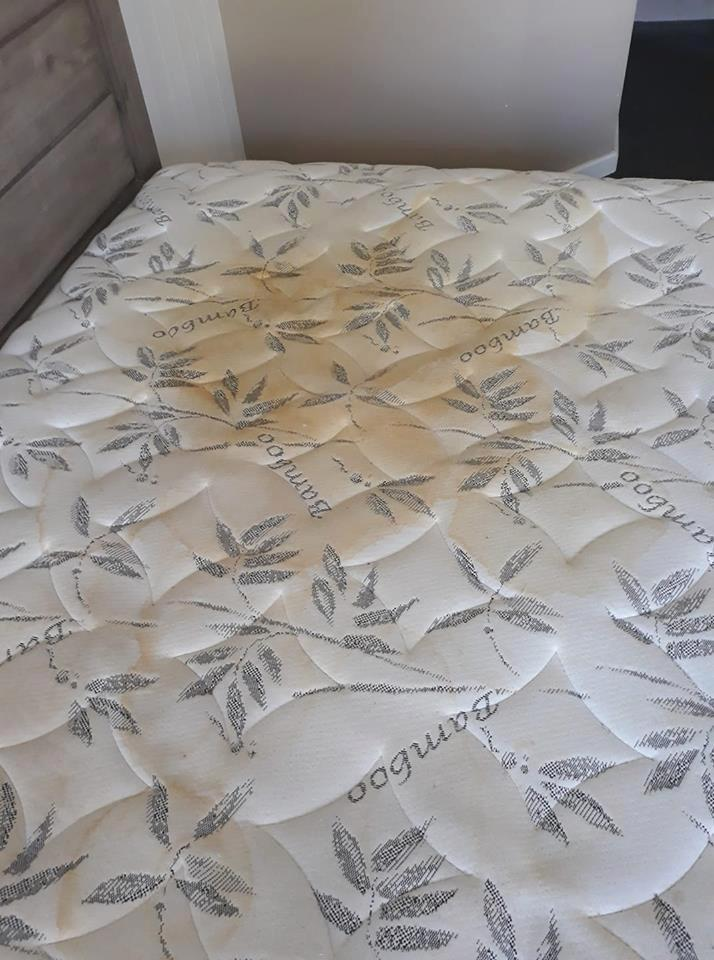Bed-Mattress: (3, 151, 714, 960)
